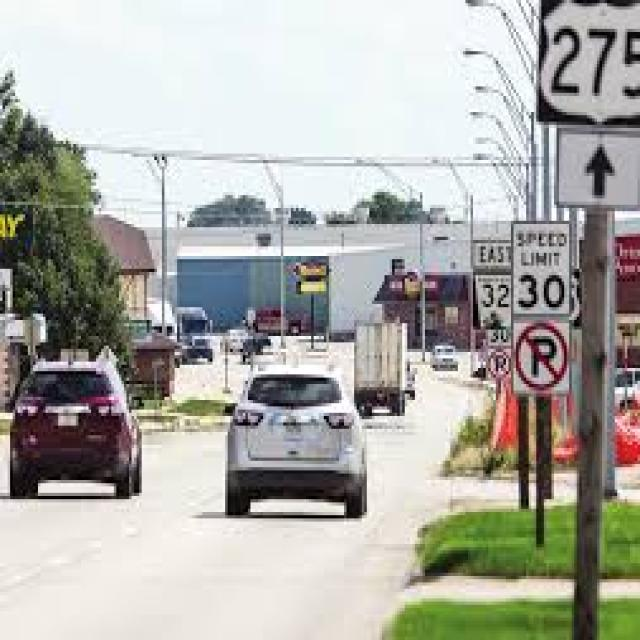speedLimit30: (511, 210, 564, 322)
